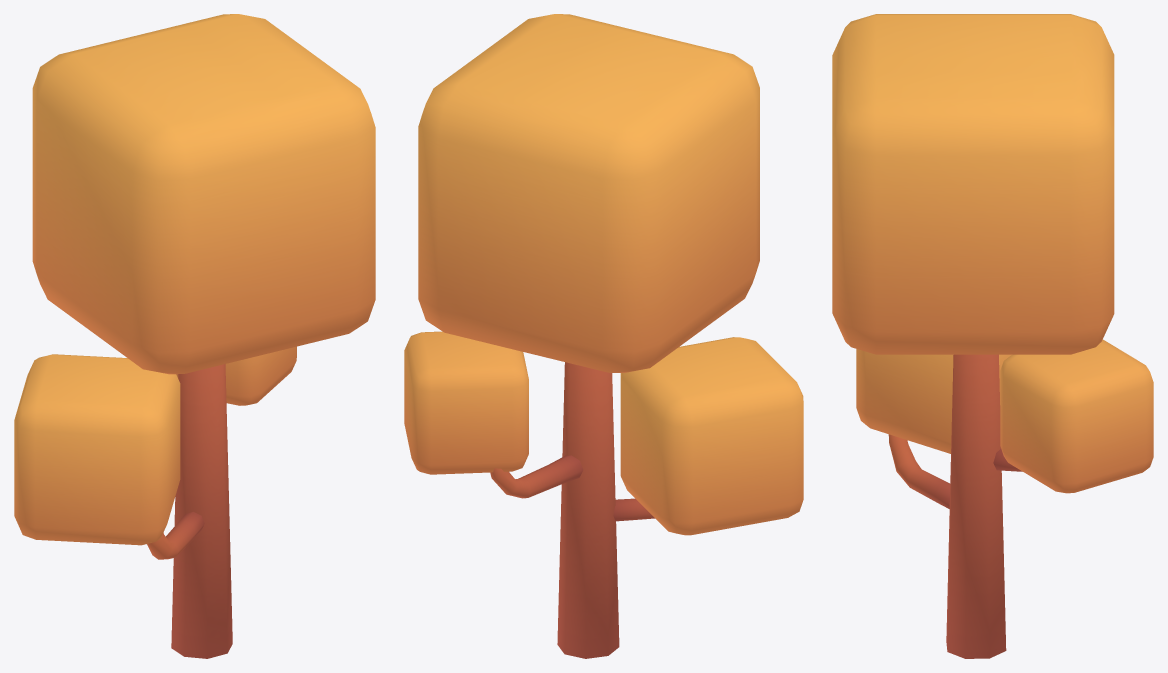
Rendered from Tree6_Yellow.glb.
The picture shows the model from 3 angles, left to right: view 1: azimuth 30°, elevation 25°; view 2: azimuth 150°, elevation 25°; view 3: azimuth 270°, elevation 25°; orthographic projection. The views are drawn at different scales.
Parts seen in each view (by area): view 1: Tree6_Yellow; view 2: Tree6_Yellow; view 3: Tree6_Yellow.
Boxes of the visible parts, x1,y1,x2,y2 form: Tree6_Yellow: (14, 14, 375, 658); Tree6_Yellow: (404, 14, 803, 658); Tree6_Yellow: (832, 14, 1153, 658).
Bounding box in the file's own units: 2.69 × 4.4 × 2.17.
Materials: 1 (1 with a texture image).
